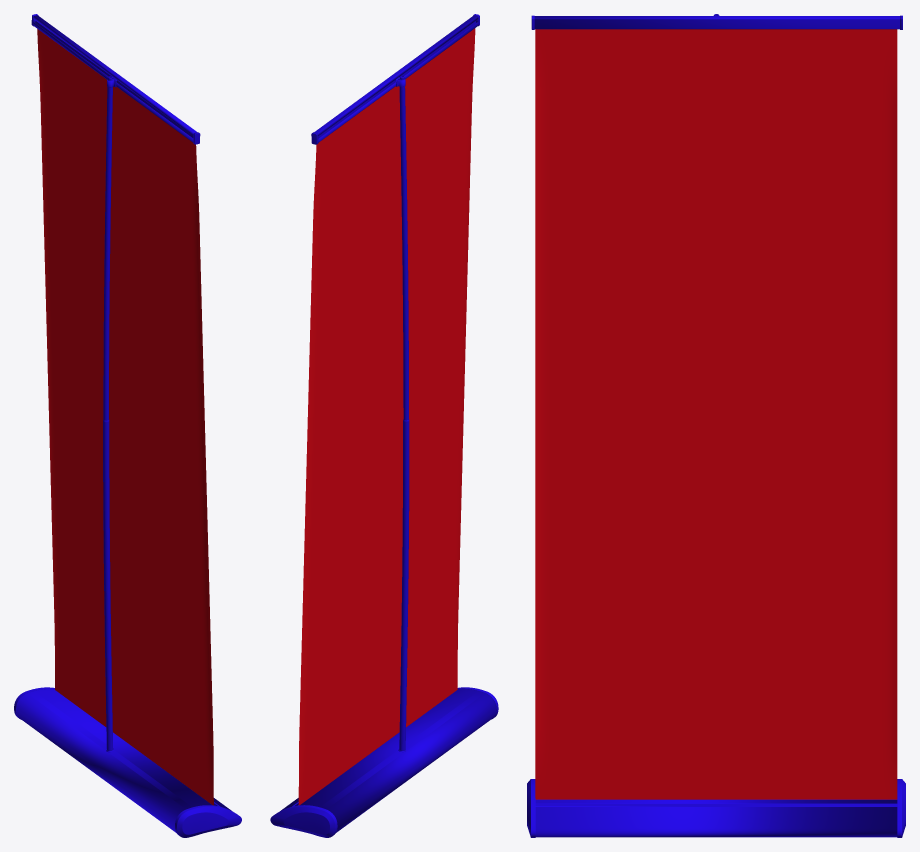
The model's file is rollup luxury obj.fbx.
3 renders of one model, left to right at view 1: azimuth 30°, elevation 25°; view 2: azimuth 150°, elevation 25°; view 3: azimuth 270°, elevation 25°, orthographic. The views are drawn at different scales.
Parts seen in each view (by area): view 1: capac stanga.001; view 2: capac stanga.001; view 3: capac stanga.001.
Part boxes in pixels (<box>): capac stanga.001: <box>14,14,241,837</box>; capac stanga.001: <box>270,14,498,837</box>; capac stanga.001: <box>527,14,905,837</box>.
Bounding box in the file's own units: 20.12 × 207 × 88.98.
